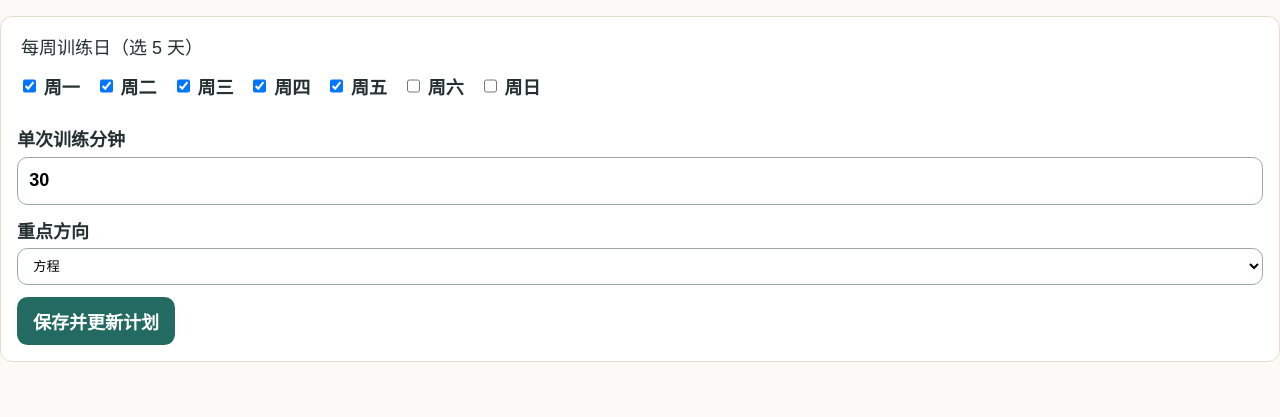
Test: shows Chinese guidance when saving preferences loses the network
Click the button "保存并更新计划". click: (96,321)
box: 17,297 -> 175,345
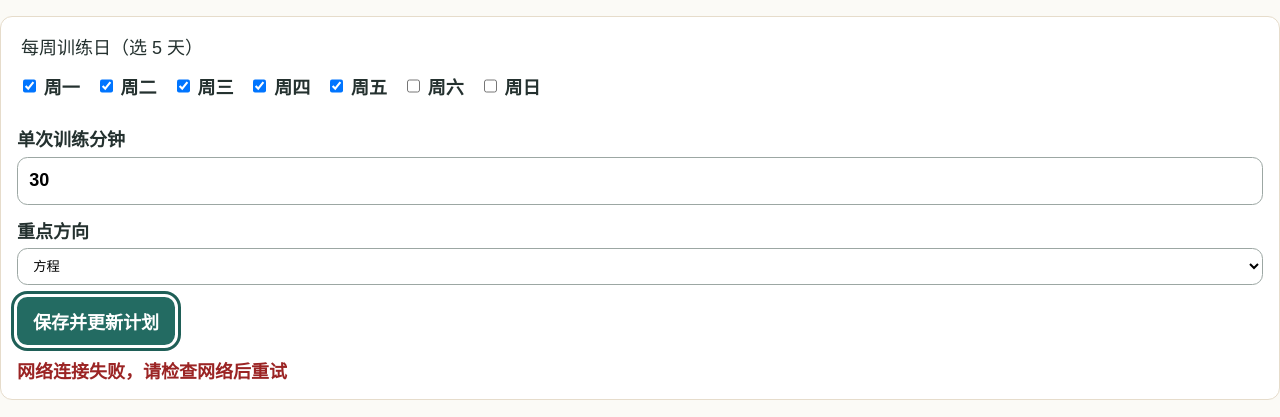
Now the message shows "网络连接失败", box 17,362 -> 287,382
